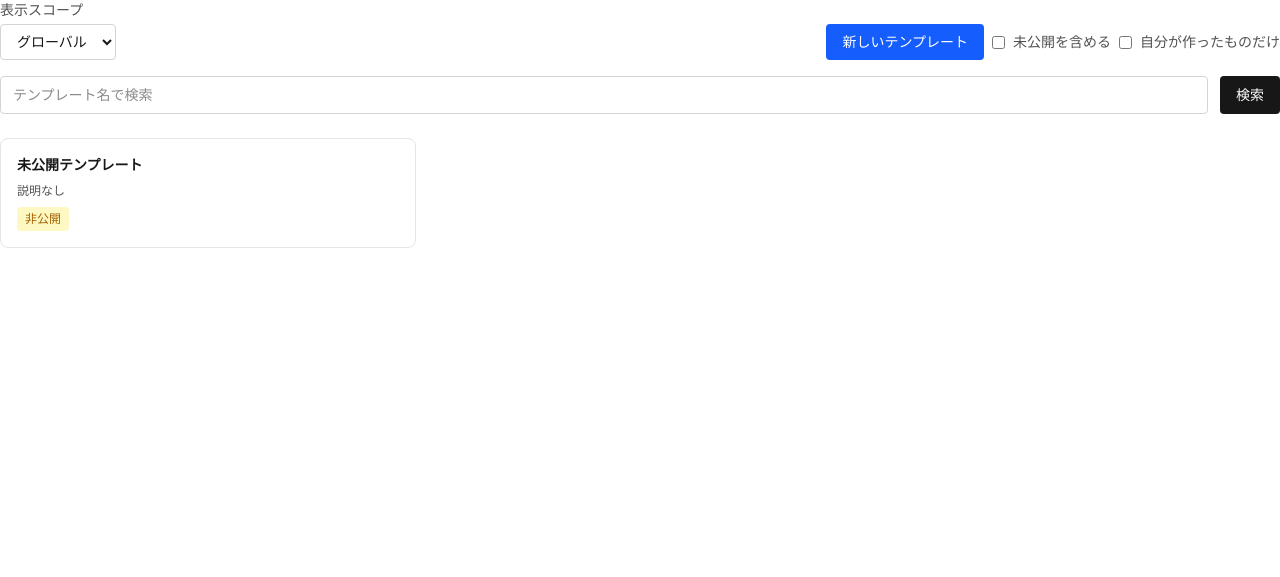
Test: CustomTagTemplateGallery 公開/非公開の切り替え › 未公開のテンプレートの詳細には「公開する」だけが出る
What coordinates should you click on to do the following:
click the heading "未公開テンプレート"
I would click on:
 (80, 165)
Its box is [17,157,143,173].
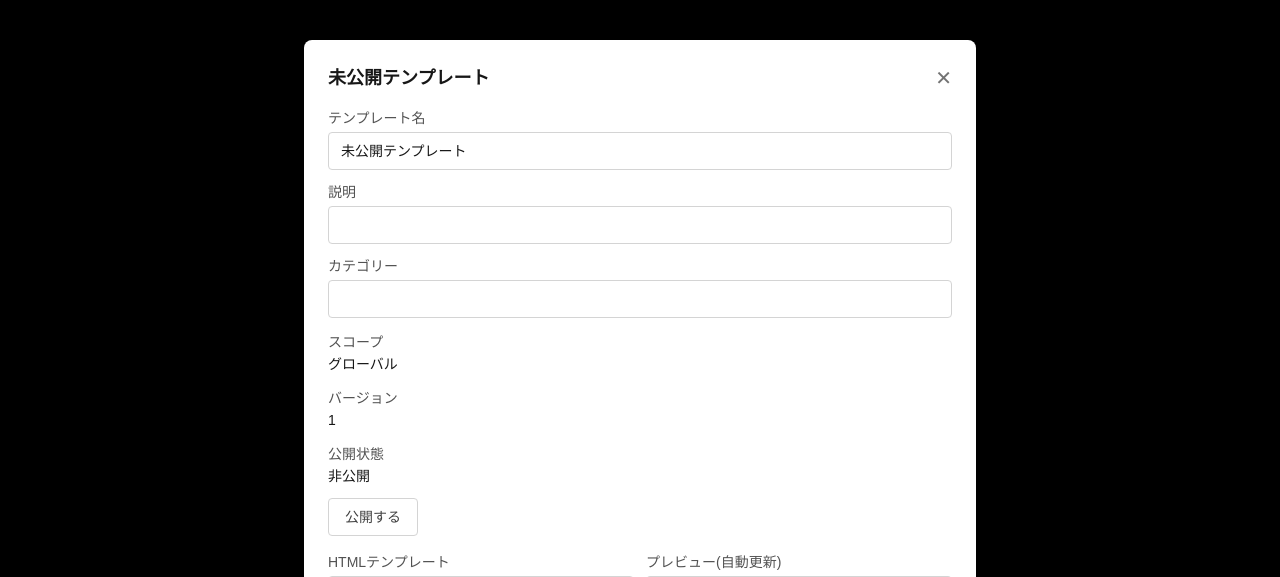
Now the button "公開する" is shown, box [328,498,418,536]
